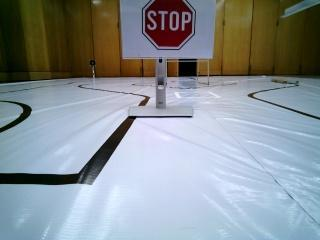stop: (127, 0, 219, 61)
